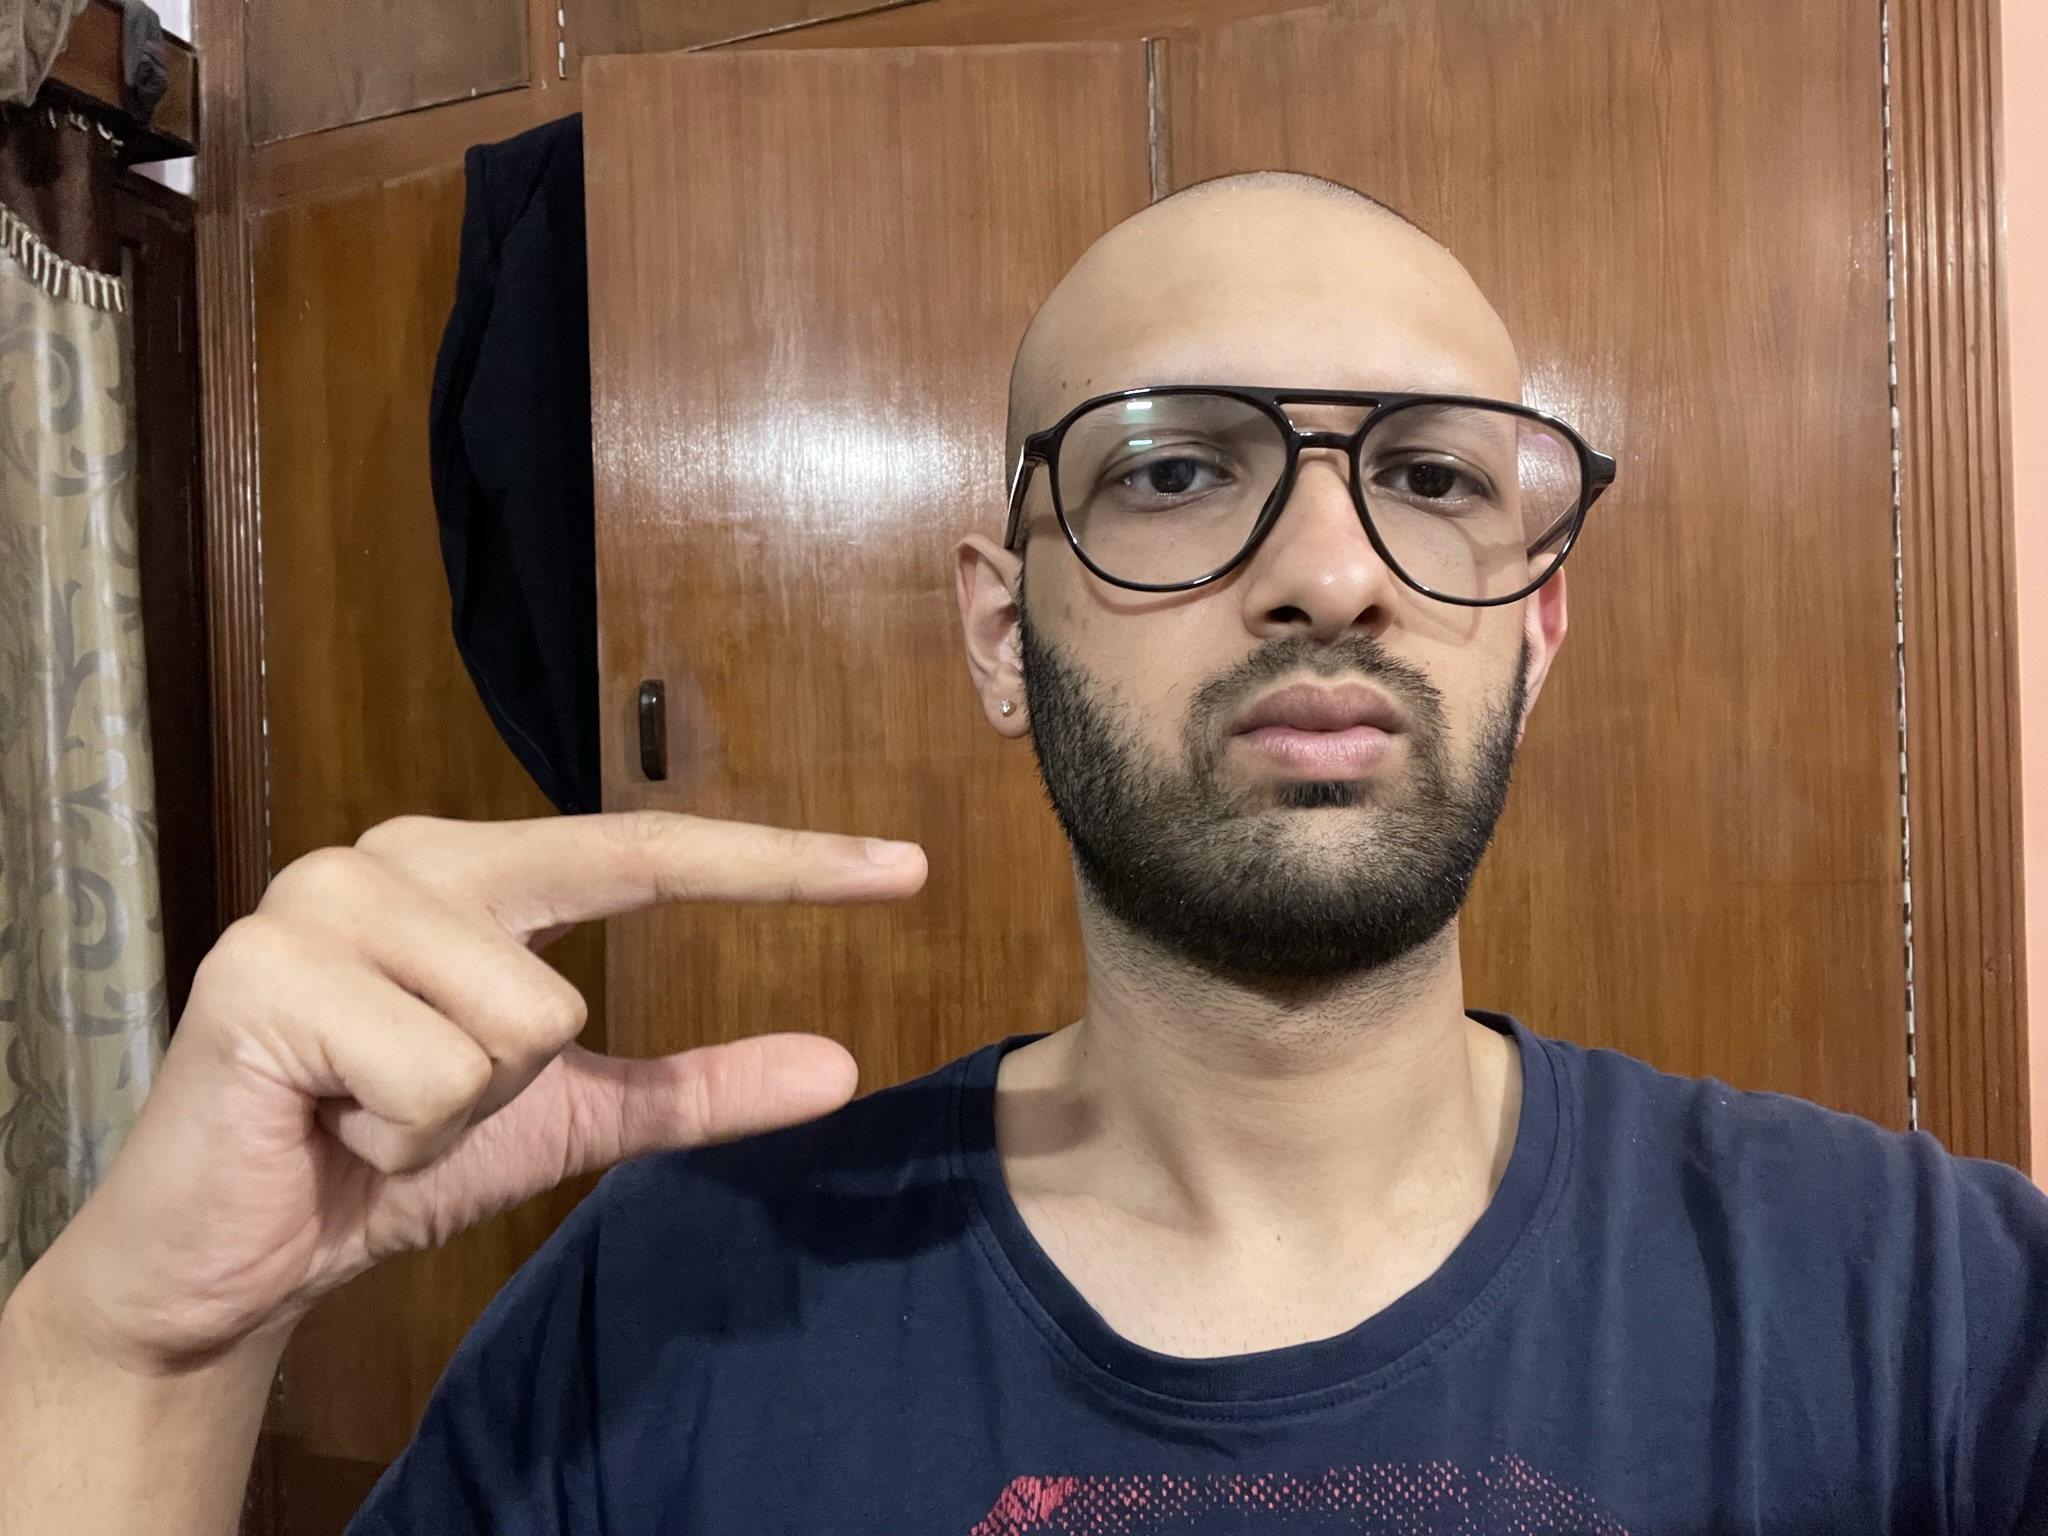No: (68, 808, 947, 1336)
